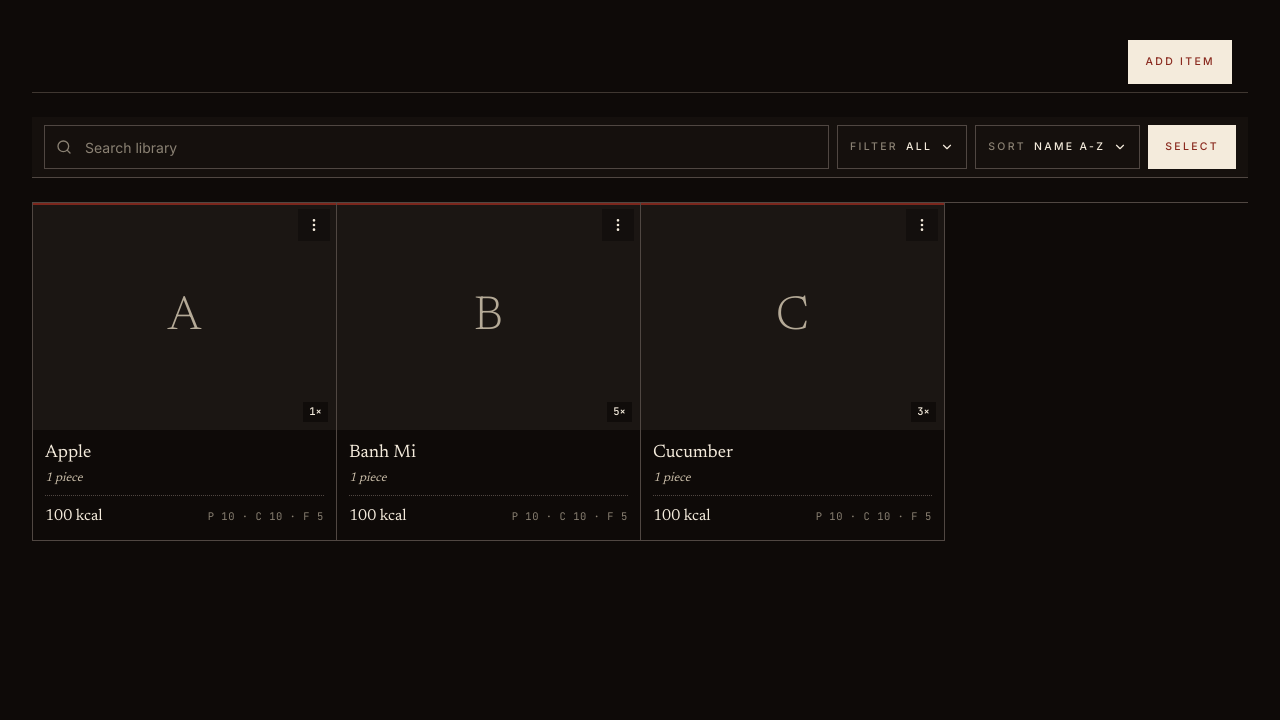
Test case: <LibraryClient /> integration › search filters the grid to matching names
Type "banh" into the search field with test id "library-search-input". click: (437, 147)
box: [44,125,829,169]
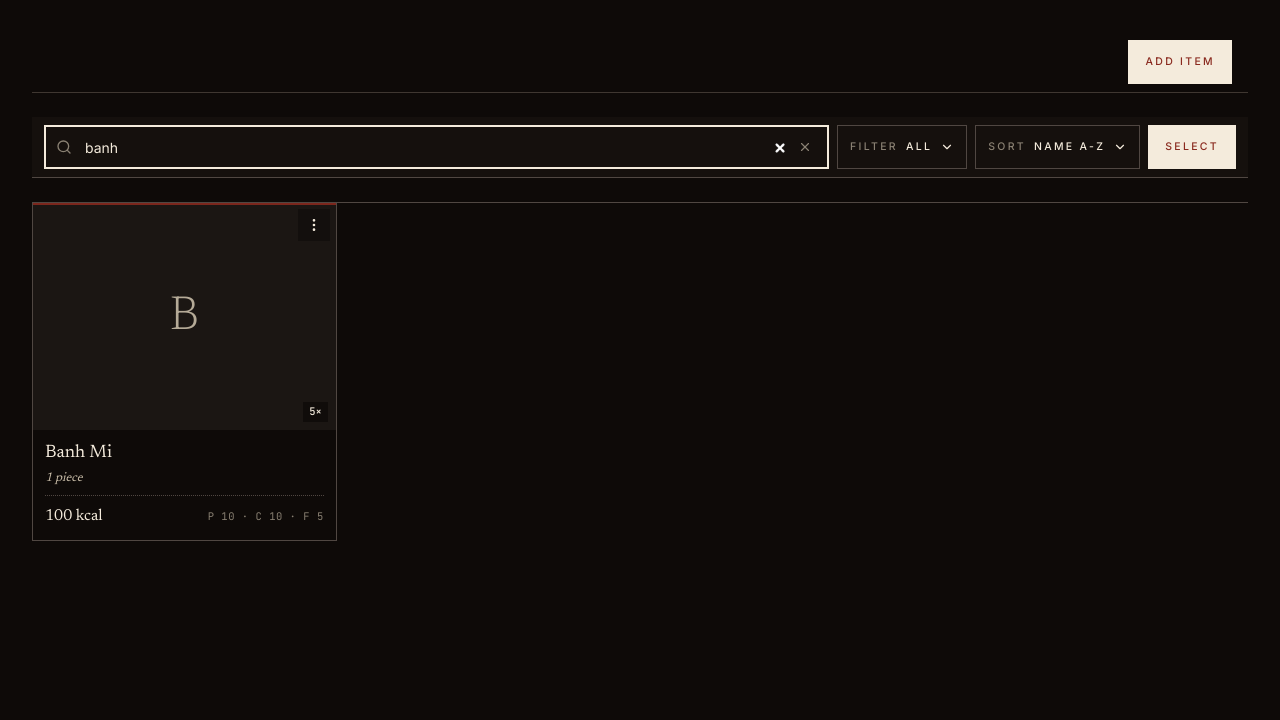
Check: the element with test id "library-card-b" is shown, box [33,203,336,540]
Check: the element with test id "library-card-a" is gone
Check: the element with test id "library-card-c" is gone
